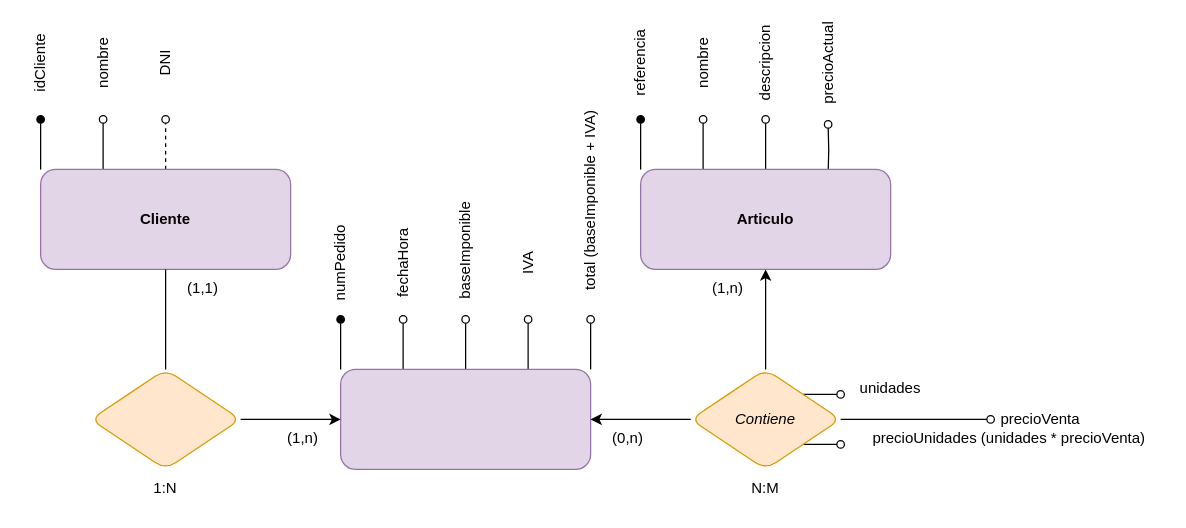
Some shapes in this 1186 by 528 pixel diagram are drawn without their labels. The centre of each missing label's shape, as x and y in pixels:
"Pedido" goes at point (465, 418).
"Realiza" goes at point (165, 418).
